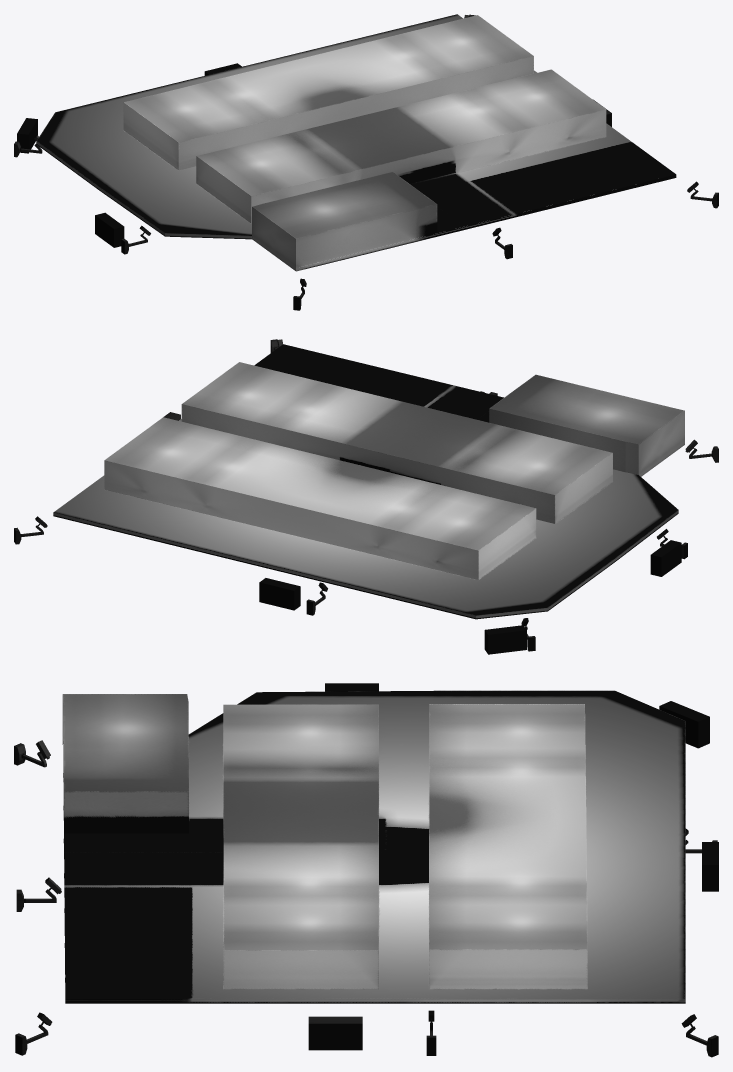
Rendered from ceiling and cameras.obj.
The picture shows the model from 3 angles, top to bottom: view 1: azimuth 30°, elevation 25°; view 2: azimuth 150°, elevation 25°; view 3: azimuth 270°, elevation 25°; orthographic projection. The views are drawn at different scales.
Parts seen in each view (by area): view 1: Plane.002, Cube.020_Cube.021, Cube.015_Cube.016; view 2: Plane.002, Cube.020_Cube.021, Cube.015_Cube.016; view 3: Plane.002, Cube.015_Cube.016, Cube.020_Cube.021.
Boxes of the visible parts, x1,y1,x2,y2 form: Plane.002: (36, 14, 676, 271); Cube.020_Cube.021: (17, 63, 241, 247); Cube.015_Cube.016: (14, 14, 718, 310); Plane.002: (53, 344, 684, 619); Cube.020_Cube.021: (259, 540, 681, 654); Cube.015_Cube.016: (14, 339, 718, 651); Plane.002: (62, 690, 685, 1003); Cube.015_Cube.016: (14, 740, 718, 1057); Cube.020_Cube.021: (325, 683, 718, 891).
Bounding box in the file's own units: 9.88 × 1.08 × 8.54.
Materials: 7 (5 with a texture image).
